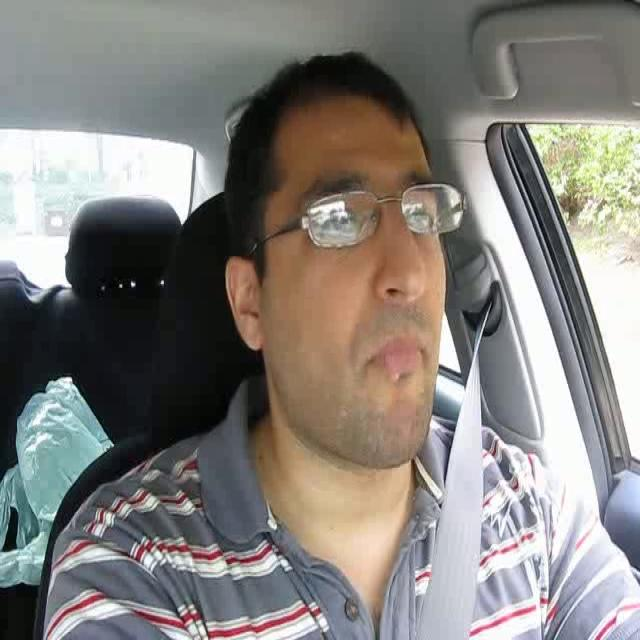close: (367, 325, 429, 382)
